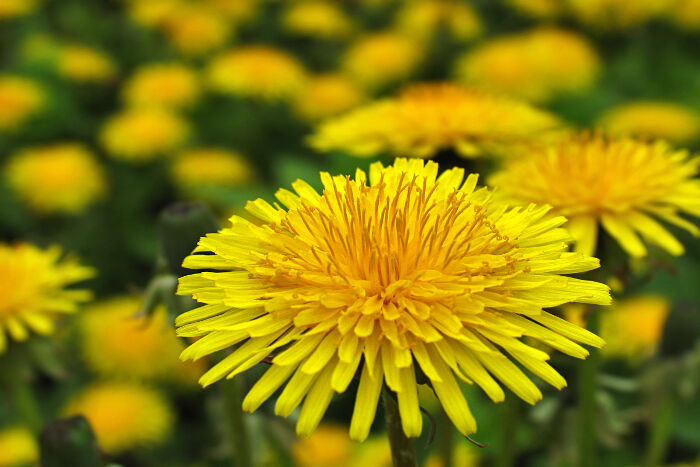dandelion: (200, 177, 555, 410), (519, 146, 691, 264), (338, 89, 533, 158), (3, 245, 103, 345)
